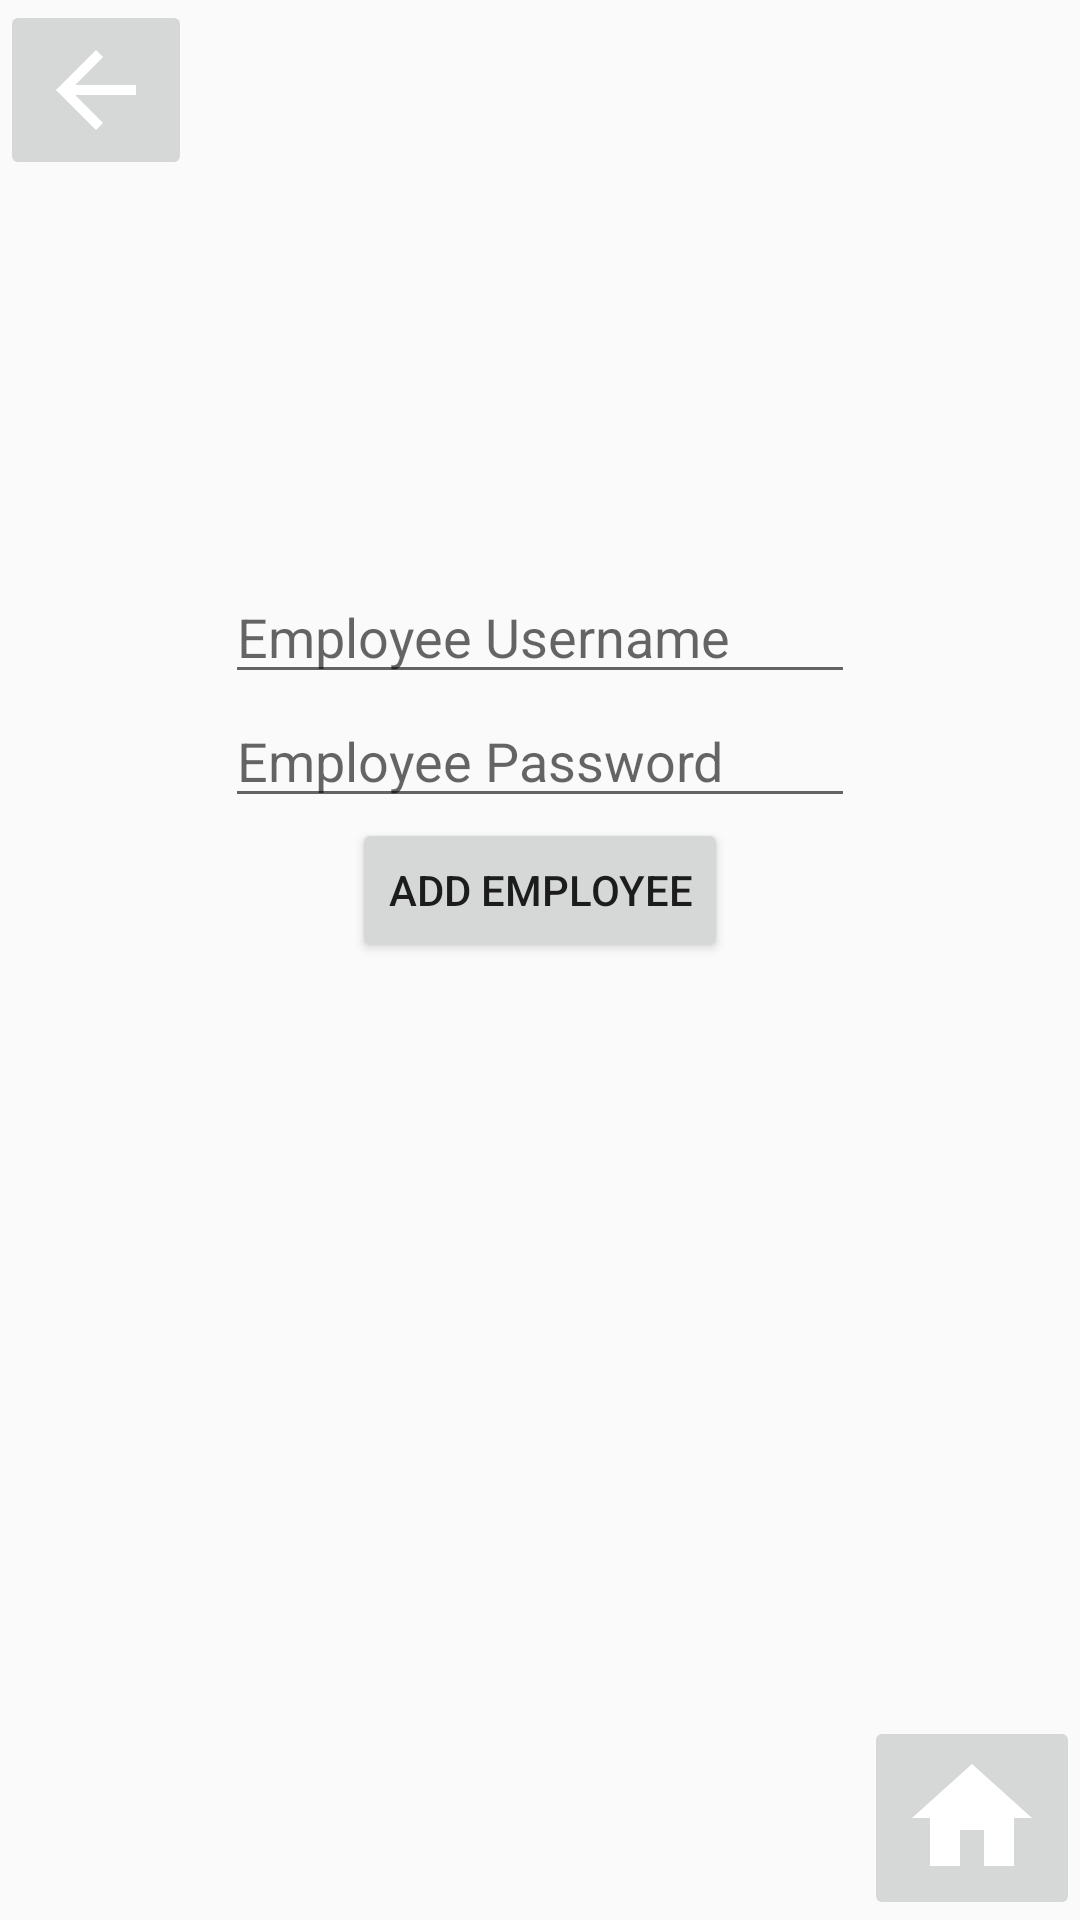

Screen size 1080×1920. Icon name, then its center in pixels as (x=x, y=y):
arrow back: (x=96, y=90)
home: (x=972, y=1818)
